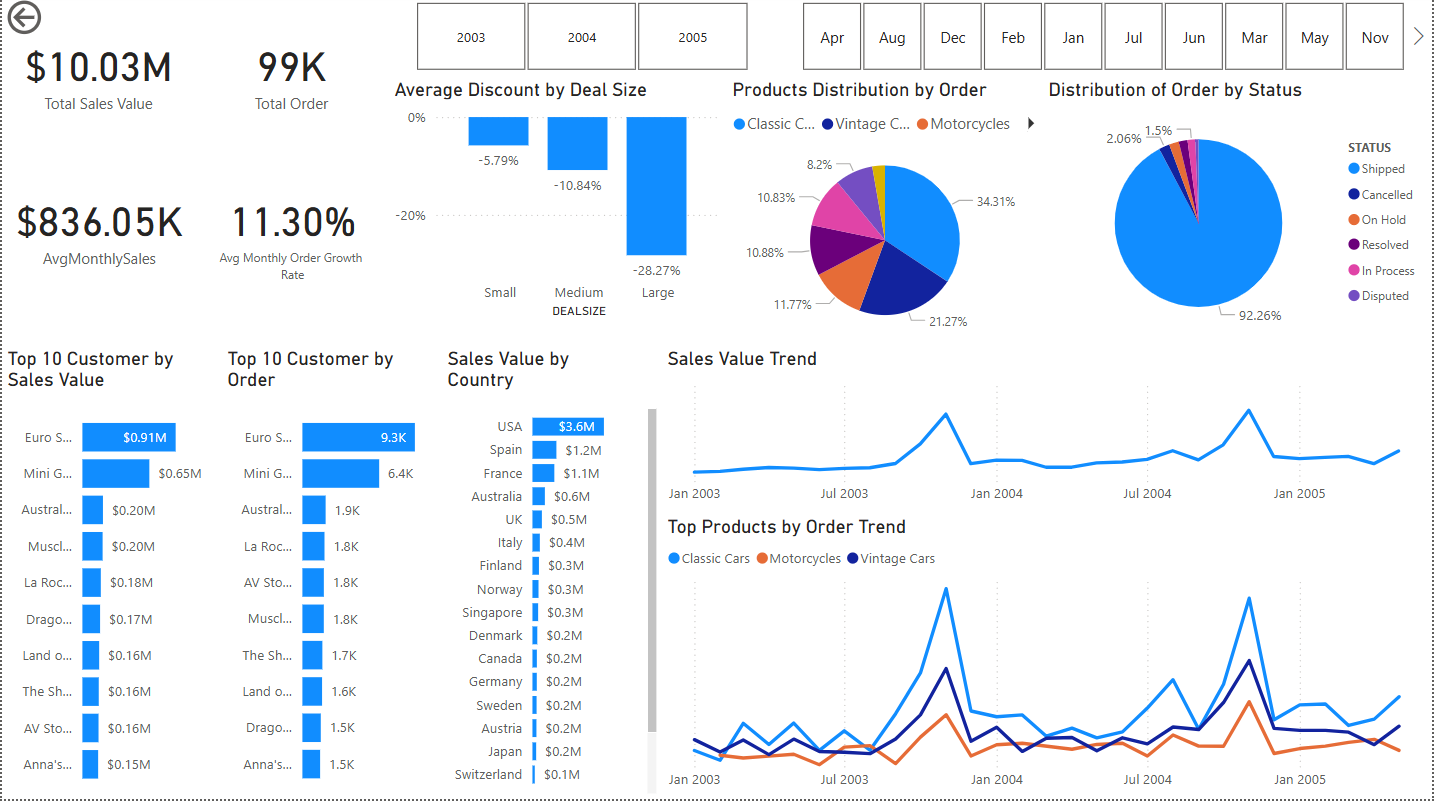

Layout of this report page (visuals, bound fields, positions):
{"tool":"powerbi","page":{"name":"Page 1","canvas":[1280,720],"ordinal":0},"visuals":[{"type":"card","fields":{"Values":["Sum(Sheet1.SALES)"]},"box":[0,0,172.8,138.8],"z":0},{"type":"card","fields":{"Values":["Sum(Sheet1.QUANTITYORDERED)"]},"box":[172.8,0,172.8,138.8],"z":1000},{"type":"slicer","fields":{"Values":["Sheet1.YEAR_ID"]},"box":[345.7,0,345.7,74.3],"z":2000},{"type":"slicer","fields":{"Values":["Sheet1.MonthName"]},"box":[691.3,0,588.4,74.3],"z":3000},{"type":"lineChart","title":"Sales Value Trend","fields":{"Y":["Sum(Sheet1.SALES)"],"Category":["Sheet1.ORDERDATE.Variation.Date Hierarchy.Year","Sheet1.ORDERDATE.Variation.Date Hierarchy.Month"]},"box":[591,315.2,688.7,149.6],"z":4000},{"type":"lineChart","title":"Top Products by Order Trend","fields":{"Series":["Sheet1.PRODUCTLINE"],"Y":["Sum(Sheet1.QUANTITYORDERED)"],"Category":["Sheet1.ORDERDATE.Variation.Date Hierarchy.Year","Sheet1.ORDERDATE.Variation.Date Hierarchy.Month"]},"box":[590.9,465.5,689.1,254.5],"z":5000},{"type":"card","fields":{"Values":["Sheet1.AvgMonthlySales"]},"box":[0.8,139.2,172.5,138.3],"z":6000},{"type":"barChart","title":"Top 10 Customer by Sales Value","fields":{"Category":["Sheet1.CUSTOMERNAME"],"Y":["Sum(Sheet1.SALES)"]},"box":[0,315,196.7,405],"z":7000},{"type":"barChart","title":"Top 10 Customer by Order","fields":{"Category":["Sheet1.CUSTOMERNAME"],"Y":["Sum(Sheet1.QUANTITYORDERED)"]},"box":[197,315.2,197,404.8],"z":8000},{"type":"pieChart","title":"Products Distribution by Order","fields":{"Category":["Sheet1.PRODUCTLINE"],"Y":["Sum(Sheet1.QUANTITYORDERED)"]},"box":[649.3,74.3,283,240.9],"z":9000},{"type":"pieChart","title":"Distribution of Order by Status","fields":{"Category":["Sheet1.STATUS"],"Y":["Sum(Sheet1.QUANTITYORDERED)"]},"box":[932.2,74.3,347.5,240.9],"z":10000},{"type":"columnChart","title":"Average Discount by Deal Size","fields":{"Category":["Sheet1.DEALSIZE"],"Y":["Avg(Sheet1.PriceDifference%)"]},"box":[346.6,74.3,302.7,219.4],"z":11000},{"type":"barChart","title":"Sales Value by Country","fields":{"Y":["Sum(Sheet1.SALES)"],"Category":["Sheet1.COUNTRY","Sheet1.CITY"]},"box":[394,315.2,197,404.8],"z":12000},{"type":"actionButton","box":[0,0,100,40],"z":13000},{"type":"card","fields":{"Values":["Sheet1.AvgMoMGrowth"]},"box":[173.7,138.8,172.8,137.9],"z":14000}]}

Visuals, with their boxes in screenshot pixels (x1, y1, x2, y2), scaled from the page's 1280x720 canvas onto the 1434x803 screenshot:
card - Sum(Sheet1.SALES): bbox=[0, 0, 194, 155]
card - Sum(Sheet1.QUANTITYORDERED): bbox=[194, 0, 387, 155]
slicer - Sheet1.YEAR_ID: bbox=[387, 0, 775, 83]
slicer - Sheet1.MonthName: bbox=[774, 0, 1433, 83]
"Sales Value Trend" lineChart: bbox=[662, 352, 1433, 518]
"Top Products by Order Trend" lineChart: bbox=[662, 519, 1433, 802]
card - Sheet1.AvgMonthlySales: bbox=[1, 155, 194, 309]
"Top 10 Customer by Sales Value" barChart: bbox=[0, 351, 220, 802]
"Top 10 Customer by Order" barChart: bbox=[221, 352, 441, 802]
"Products Distribution by Order" pieChart: bbox=[727, 83, 1044, 352]
"Distribution of Order by Status" pieChart: bbox=[1044, 83, 1433, 352]
"Average Discount by Deal Size" columnChart: bbox=[388, 83, 727, 328]
"Sales Value by Country" barChart: bbox=[441, 352, 662, 802]
actionButton: bbox=[0, 0, 112, 45]
card - Sheet1.AvgMoMGrowth: bbox=[195, 155, 388, 309]
